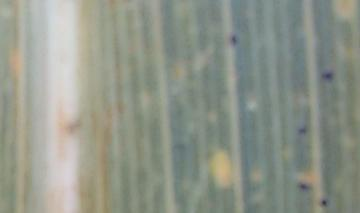tarspot: (322, 72, 335, 80), (231, 34, 238, 45), (298, 126, 307, 134), (299, 182, 308, 189), (321, 198, 328, 206)
